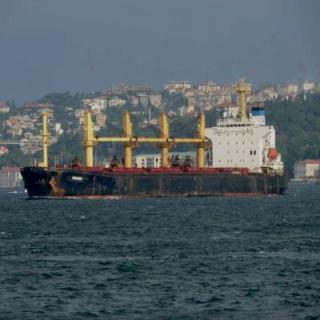Bulk Carrier: (14, 88, 297, 192)
